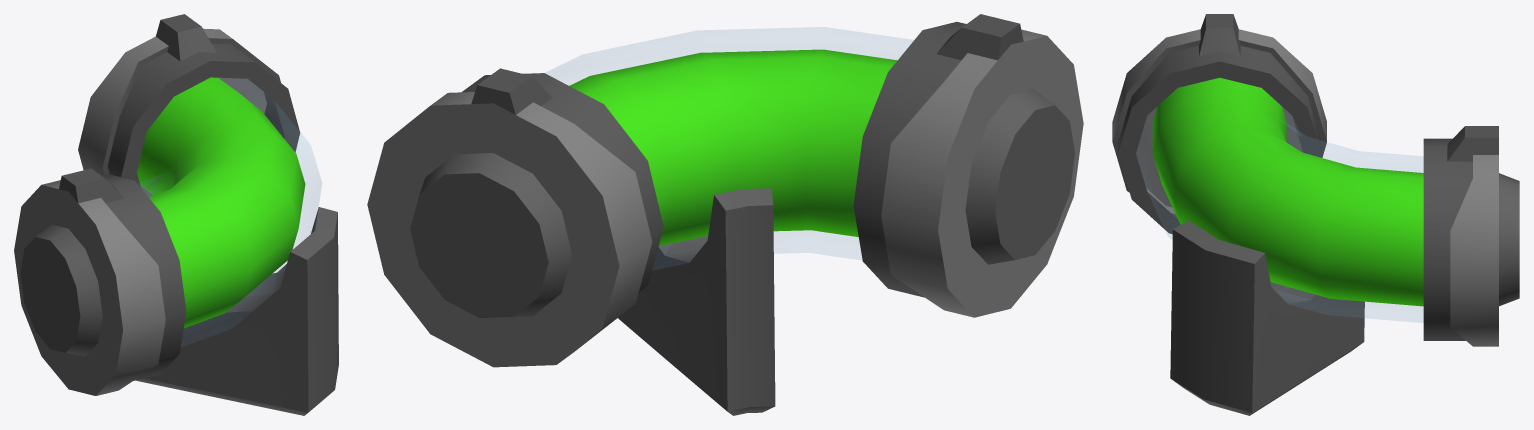
File: Liquid_Green_Pipe_Elbow.fbx
3 views of the same model, side by side, from view 1: azimuth 30°, elevation 25°; view 2: azimuth 150°, elevation 25°; view 3: azimuth 270°, elevation 25° (orthographic). The views are drawn at different scales.
Visible parts, largest first — view 1: Liquid_Green_Pipe_Elbow; view 2: Liquid_Green_Pipe_Elbow; view 3: Liquid_Green_Pipe_Elbow.
Part boxes in pixels (x1,y1,x2,y2): Liquid_Green_Pipe_Elbow: [14, 14, 338, 415]; Liquid_Green_Pipe_Elbow: [367, 14, 1083, 415]; Liquid_Green_Pipe_Elbow: [1112, 14, 1519, 415].
Bounding box in the file's own units: 146 × 107 × 146.
